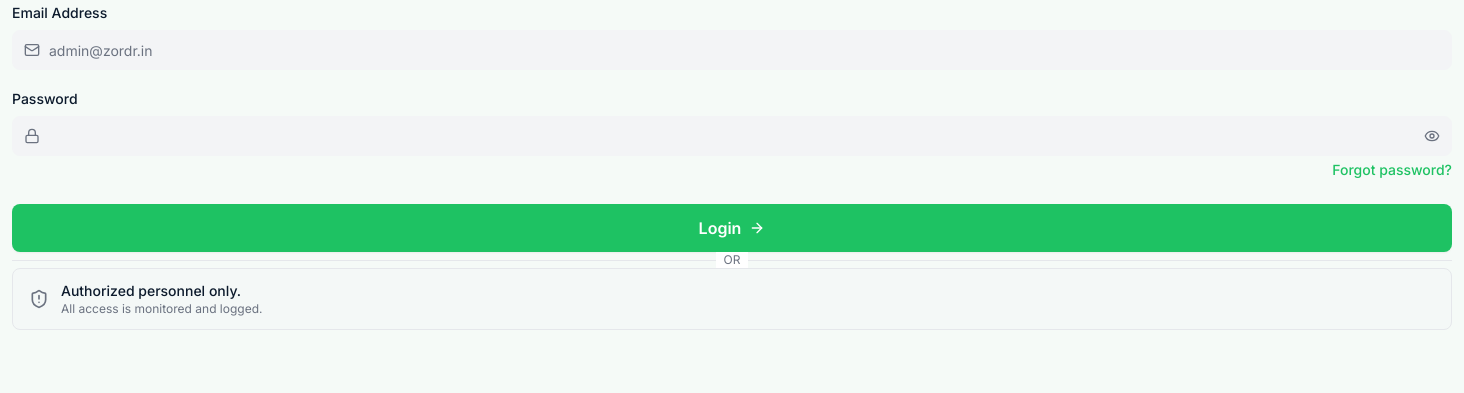
Test: LoginForm › Error states › shows network error on status 0
This screenshot has width=1464, height=393.
Type "admin@zordr.com" into the field labelled "Email Address" at (732, 50), box [12,30,1452,70]
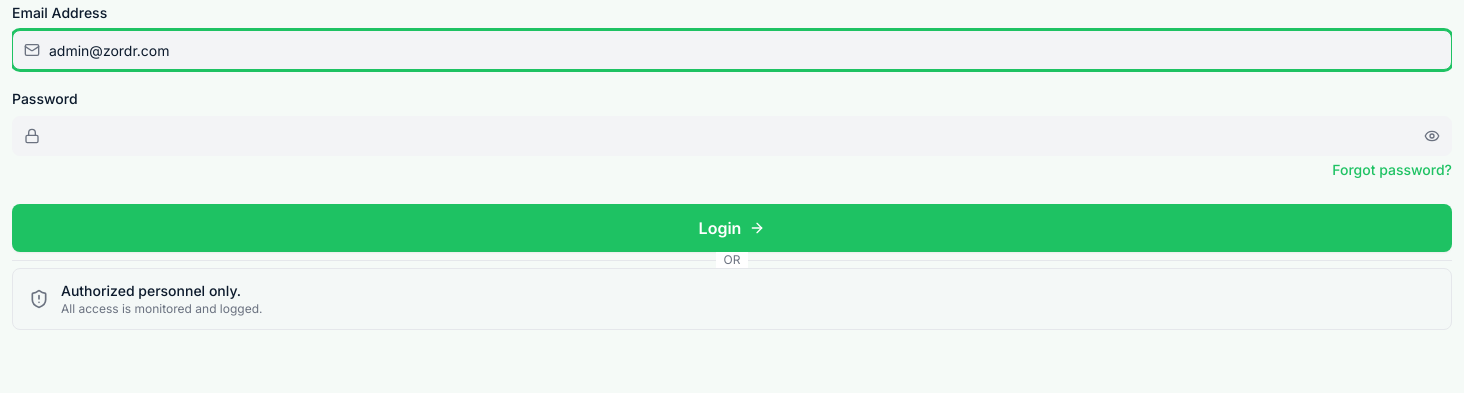
Type "Test@1234" into the password field labelled "Password" at (732, 136), box [12,116,1452,156]
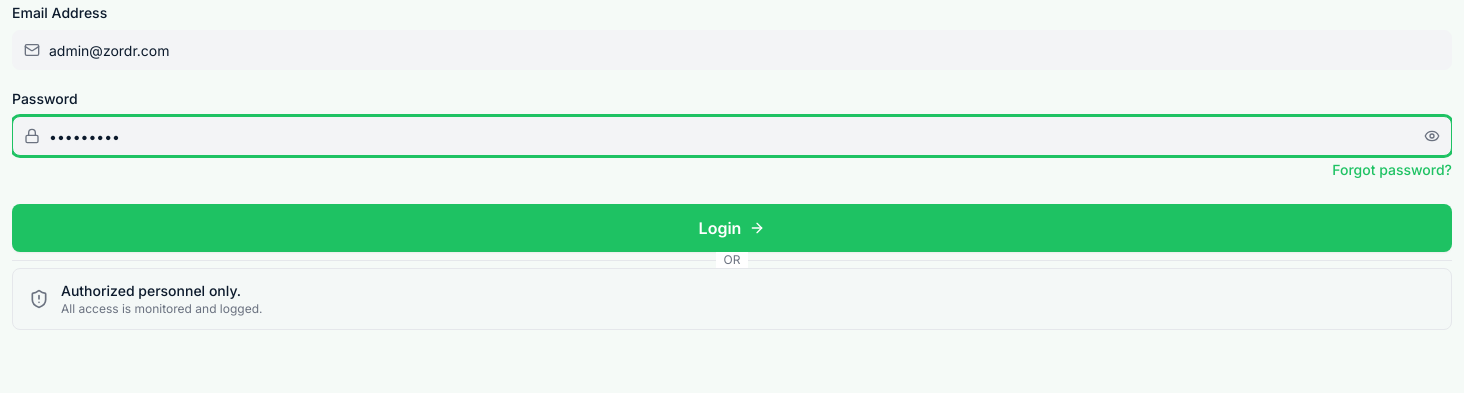
Click the button "Login" at (732, 228), box [12,204,1452,252]
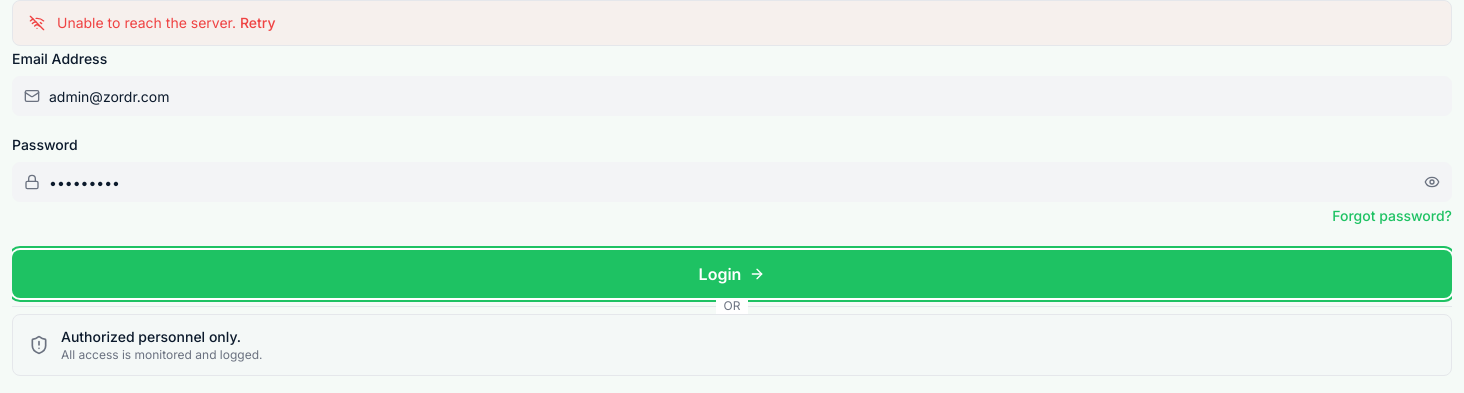
Now the message shows "Unable to reach", box [57,14,236,31]
